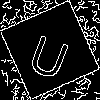U: (25, 25, 76, 82)
